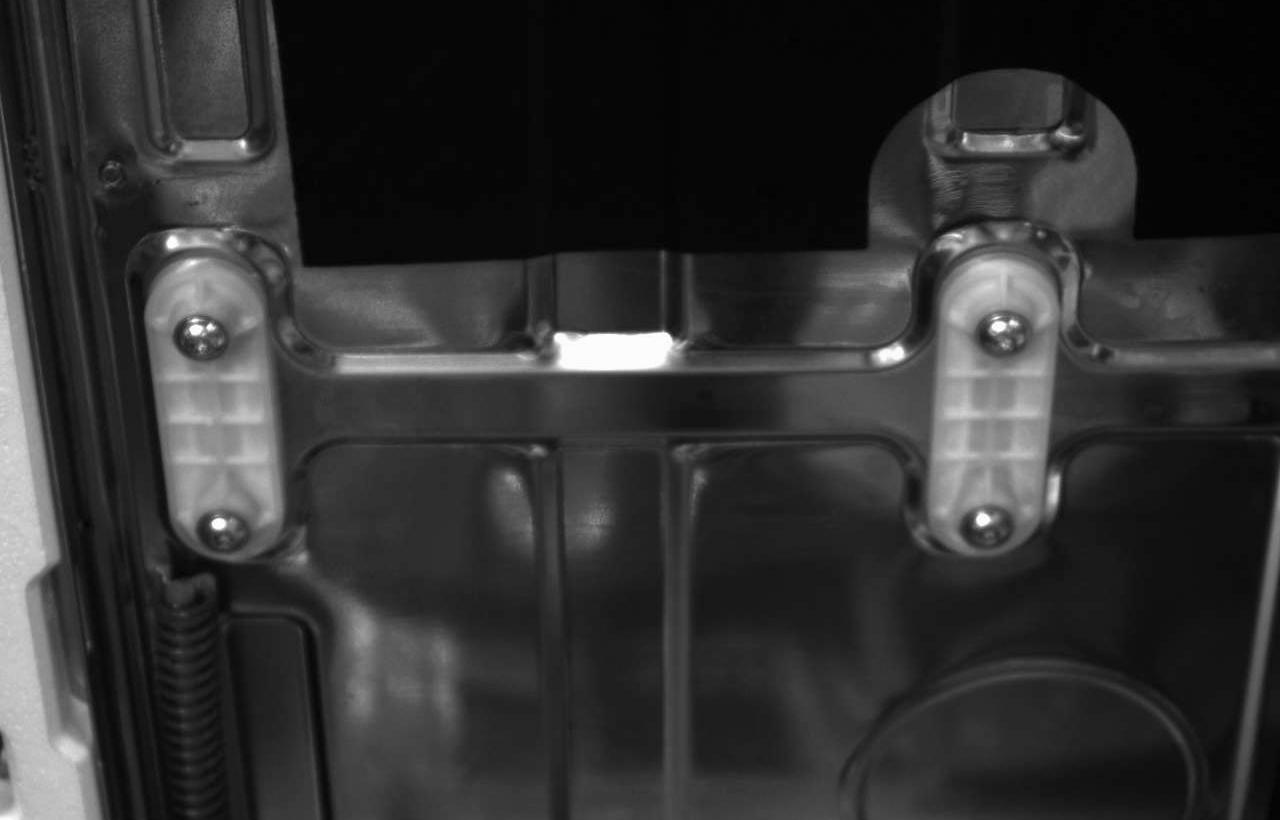vida-ok: (166, 301, 252, 378), (964, 287, 1052, 360), (185, 491, 266, 555), (947, 491, 1022, 550)
